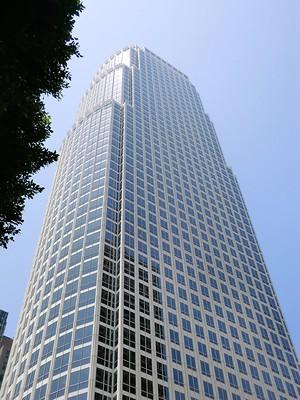building: (4, 42, 300, 399)
